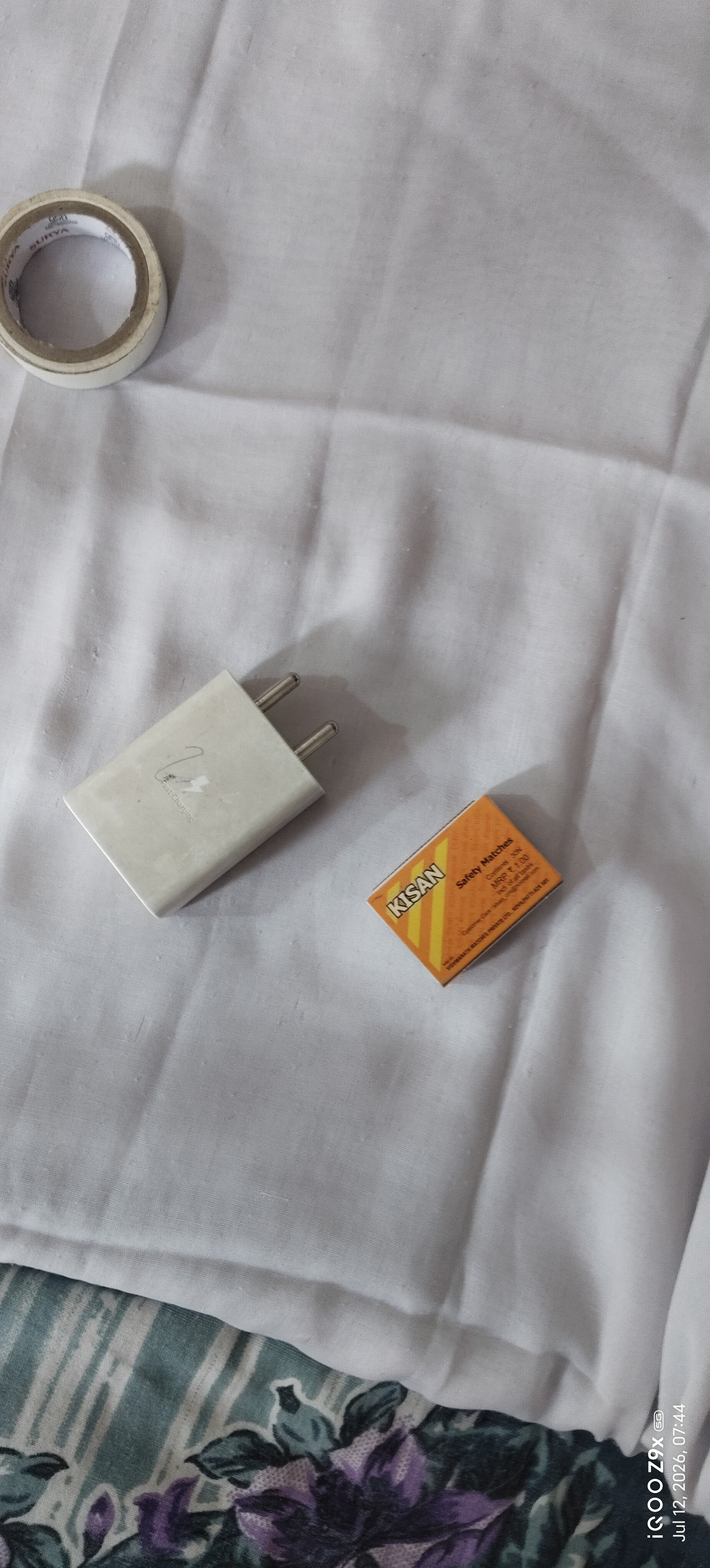charger: (58, 646, 351, 925)
matchbox: (359, 770, 572, 997)
tape_roll: (0, 165, 175, 409)
